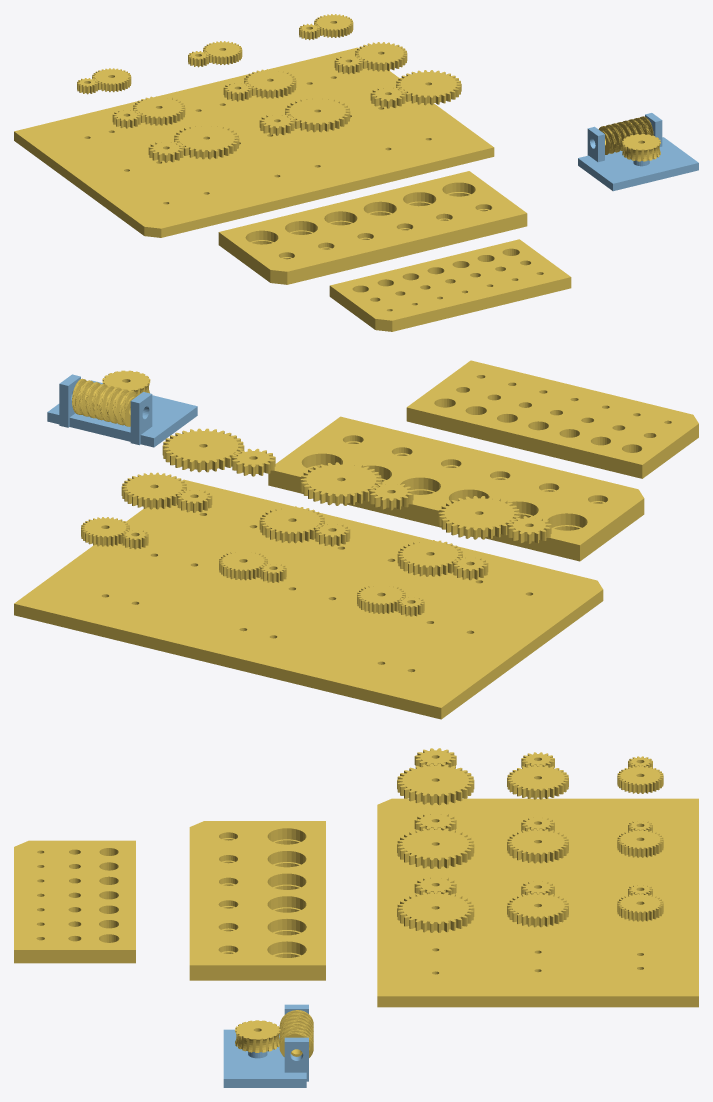
File: tolerance_coupons_exploded.dae
The picture shows the model from 3 angles, top to bottom: view 1: azimuth 30°, elevation 25°; view 2: azimuth 150°, elevation 25°; view 3: azimuth 270°, elevation 25°; orthographic projection. The views are drawn at different scales.
Parts seen in each view (by area): view 1: gear_board, bearing_coupon, fit_coupon, worm_cradle, gear_m1_b0p10_30, gear_m1_b0p20_30, gear_m1_b0p15_30, gear_m0p8_b0p10_30, gear_m0p8_b0p15_30, gear_m0p8_b0p20_30, worm_test, worm_wheel_20 (+6 smaller); view 2: gear_board, bearing_coupon, fit_coupon, worm_cradle, gear_m1_b0p10_30, gear_m1_b0p20_30, gear_m1_b0p15_30, worm_test, gear_m0p8_b0p20_30, gear_m0p8_b0p10_30, gear_m0p8_b0p15_30, gear_m0p6_b0p15_30 (+9 smaller); view 3: gear_board, bearing_coupon, fit_coupon, worm_cradle, gear_m1_b0p10_30, gear_m1_b0p20_30, gear_m1_b0p15_30, gear_m0p8_b0p10_30, gear_m0p8_b0p15_30, gear_m0p8_b0p20_30, worm_wheel_20, worm_test (+6 smaller).
Boxes of the visible parts, x1,y1,x2,y2 form: gear_board: [14, 47, 494, 237]; bearing_coupon: [218, 171, 527, 284]; fit_coupon: [329, 239, 571, 331]; worm_cradle: [578, 113, 698, 191]; gear_m1_b0p10_30: [174, 124, 239, 159]; gear_m1_b0p20_30: [396, 70, 461, 105]; gear_m1_b0p15_30: [285, 97, 350, 132]; gear_m0p8_b0p10_30: [133, 96, 185, 125]; gear_m0p8_b0p15_30: [244, 69, 296, 98]; gear_m0p8_b0p20_30: [355, 42, 407, 71]; worm_test: [598, 116, 653, 154]; worm_wheel_20: [622, 134, 660, 161]; gear_board: [14, 479, 603, 719]; bearing_coupon: [268, 416, 644, 561]; fit_coupon: [406, 360, 698, 478]; worm_cradle: [47, 374, 197, 447]; gear_m1_b0p10_30: [438, 496, 520, 539]; gear_m1_b0p20_30: [162, 428, 244, 472]; gear_m1_b0p15_30: [300, 462, 382, 505]; worm_test: [72, 378, 136, 426]; gear_m0p8_b0p20_30: [121, 472, 186, 509]; gear_m0p8_b0p10_30: [397, 540, 462, 576]; gear_m0p8_b0p15_30: [259, 506, 324, 543]; gear_m0p6_b0p15_30: [219, 550, 267, 580]; gear_board: [377, 798, 698, 1007]; bearing_coupon: [189, 821, 325, 980]; fit_coupon: [14, 840, 135, 963]; worm_cradle: [223, 1004, 308, 1087]; gear_m1_b0p10_30: [397, 763, 474, 805]; gear_m1_b0p20_30: [397, 891, 474, 932]; gear_m1_b0p15_30: [397, 827, 474, 868]; gear_m0p8_b0p10_30: [507, 764, 568, 799]; gear_m0p8_b0p15_30: [507, 828, 568, 863]; gear_m0p8_b0p20_30: [507, 892, 568, 927]; worm_wheel_20: [235, 1020, 280, 1052]; worm_test: [279, 1010, 313, 1057].
Bounding box in the file's own units: 270 × 281 × 34.5.
